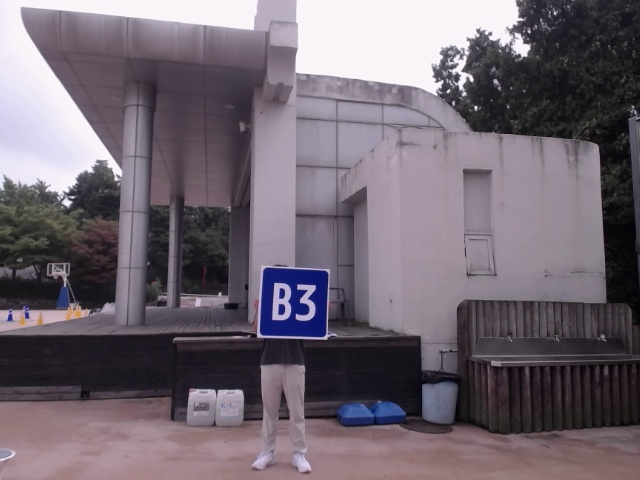delivery_b3: (259, 267, 330, 340)
